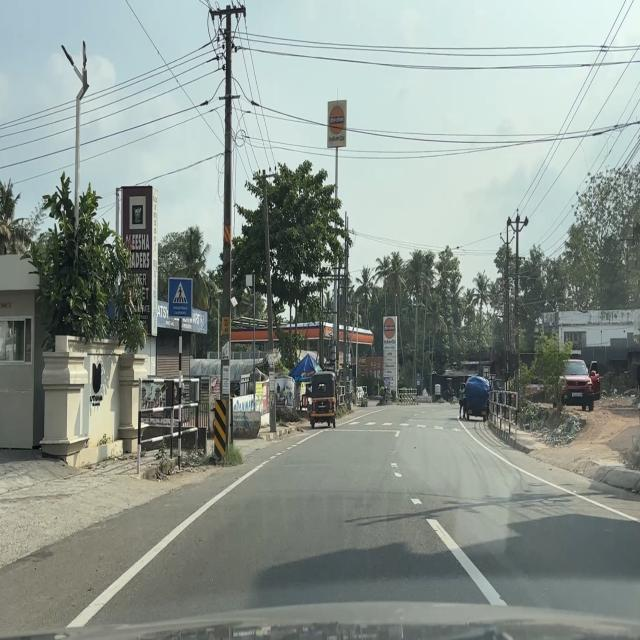PEDESTRIAN_CROSSING: (168, 276, 193, 319)
